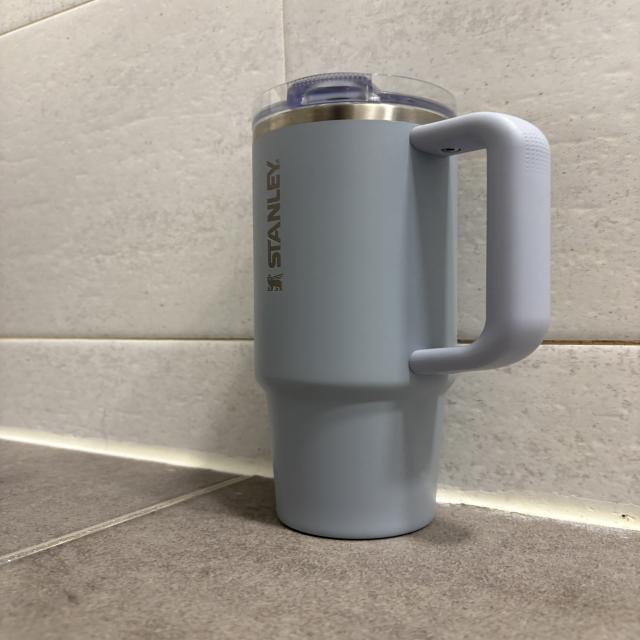waterbottle: (255, 70, 552, 540)
